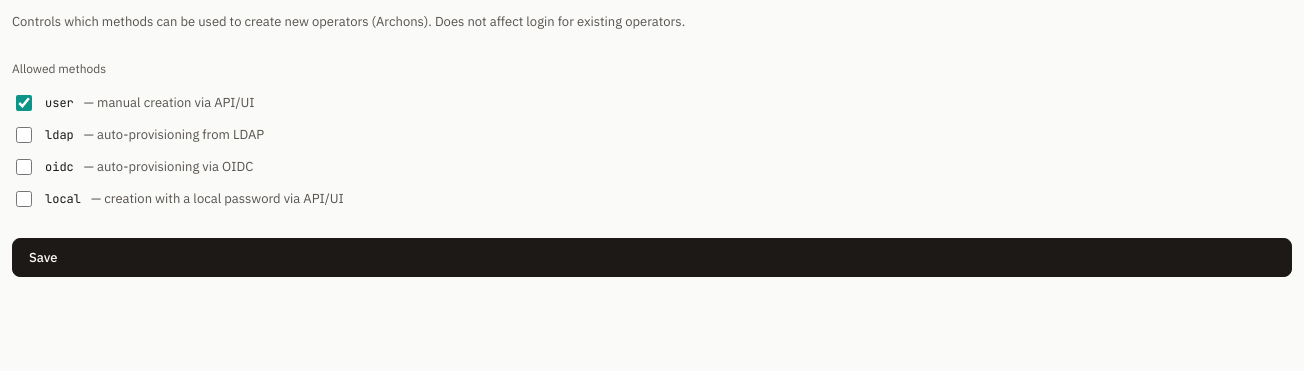
Test: ProvisioningPolicy › unchecking all boxes → Save disabled + anti-lockout alert
# Uncheck user
Click the checkbox labelled "user — manual creation via API/UI". click: click(24, 102)
box: 16,94 -> 32,110
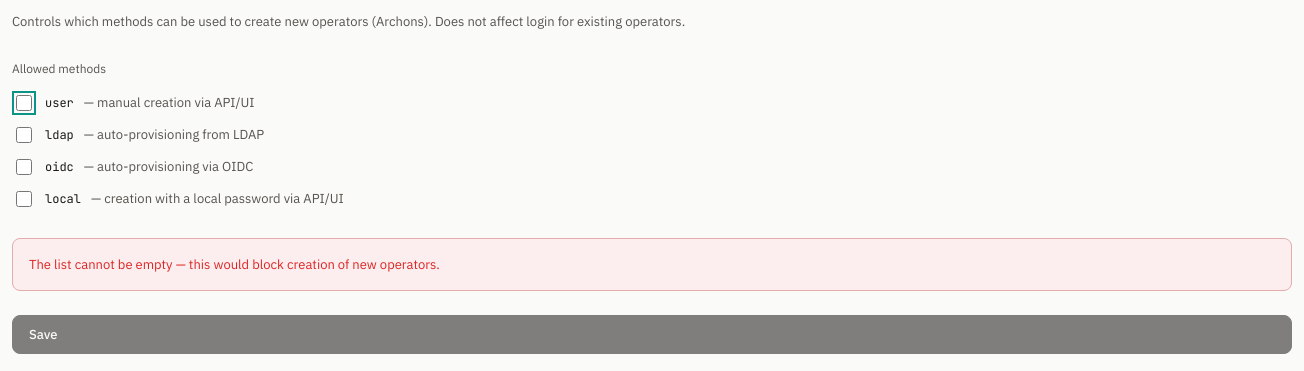
Check: the button with test id "save-policy-btn" is disabled, box 12,315 -> 1292,354
Check: the message "The list cannot be empty — this would block creation of new operators." is shown, box 12,238 -> 1292,291
